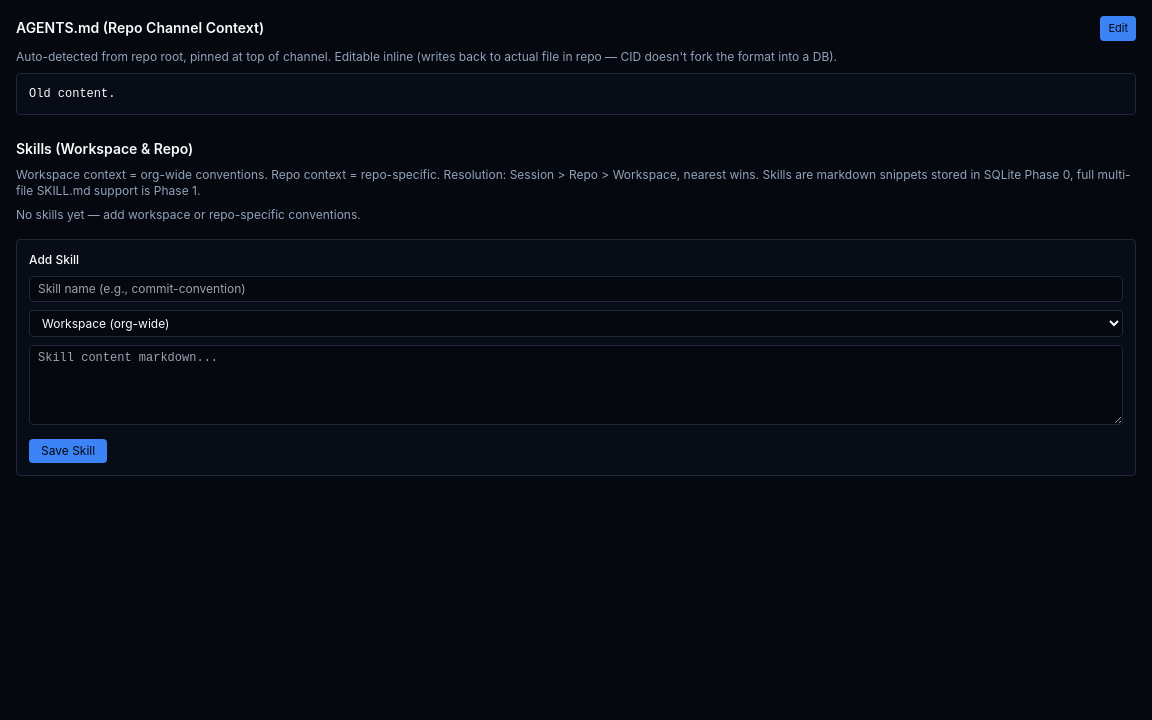
SkillsPanel › editing and saving AGENTS.md writes back to the real file
Step 1. Click the button "Edit" → (1118, 28), box [1100, 16, 1136, 40]
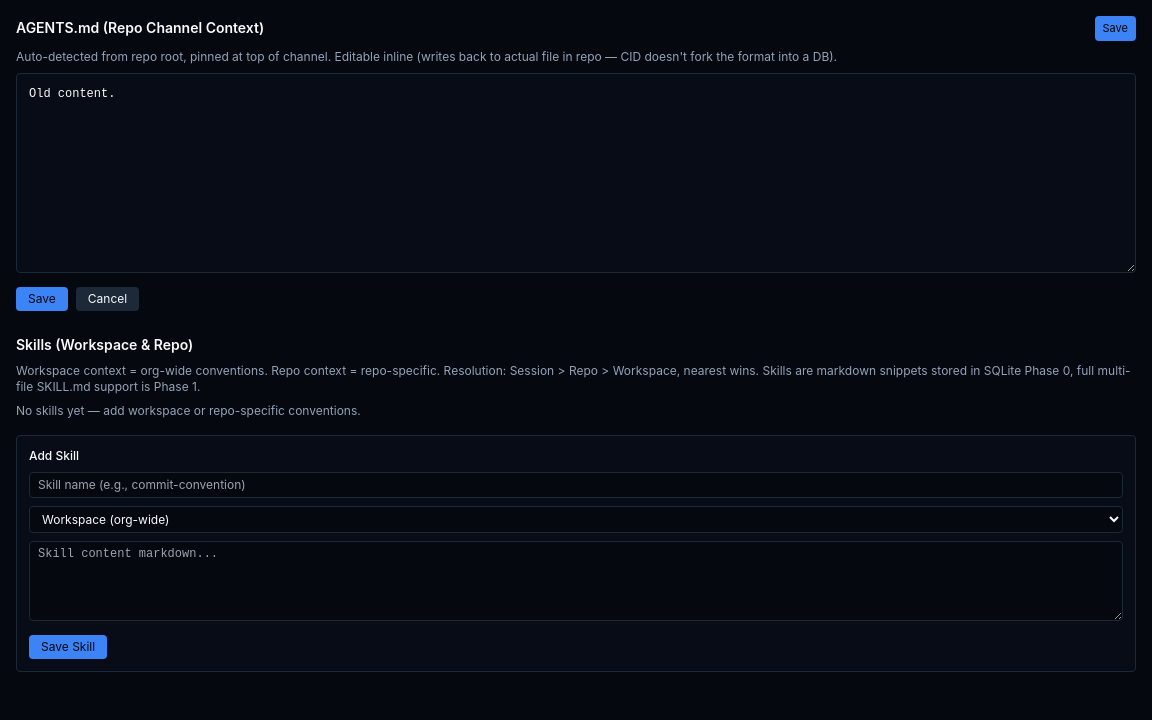
Step 2. Replace the text in the text box showing "Old content." with "New content." → (576, 172), box [16, 72, 1136, 272]
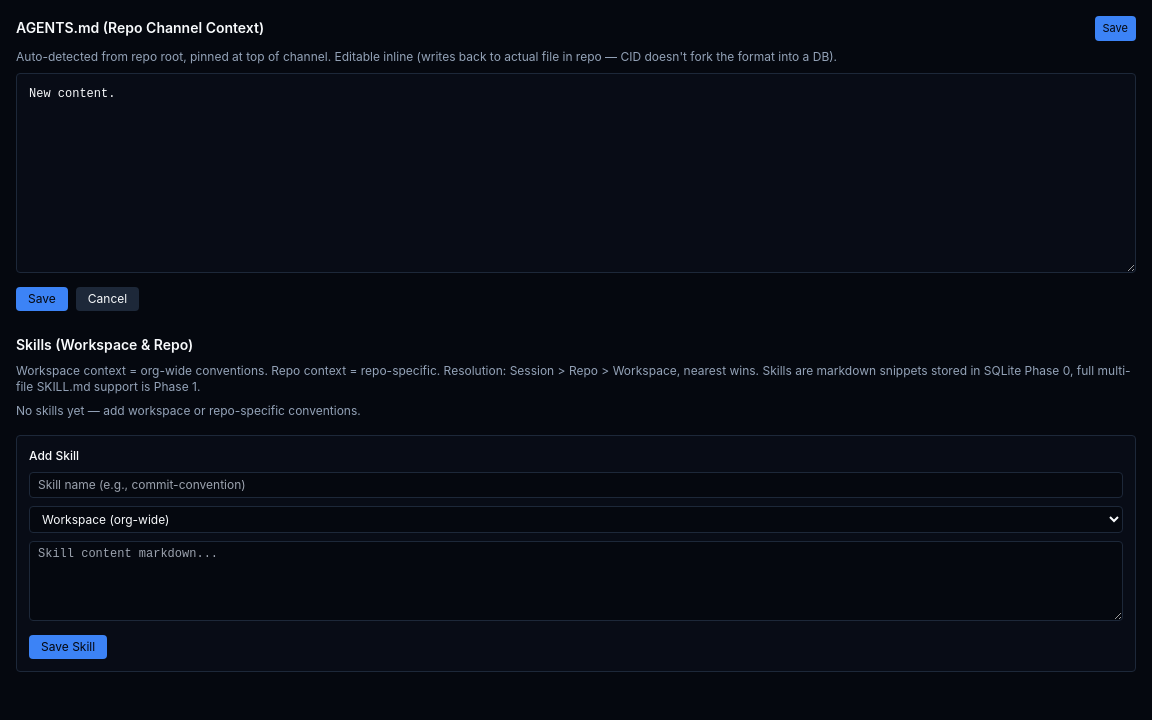
Step 3. Click the 2nd button "Save" → (42, 298), box [16, 286, 68, 310]
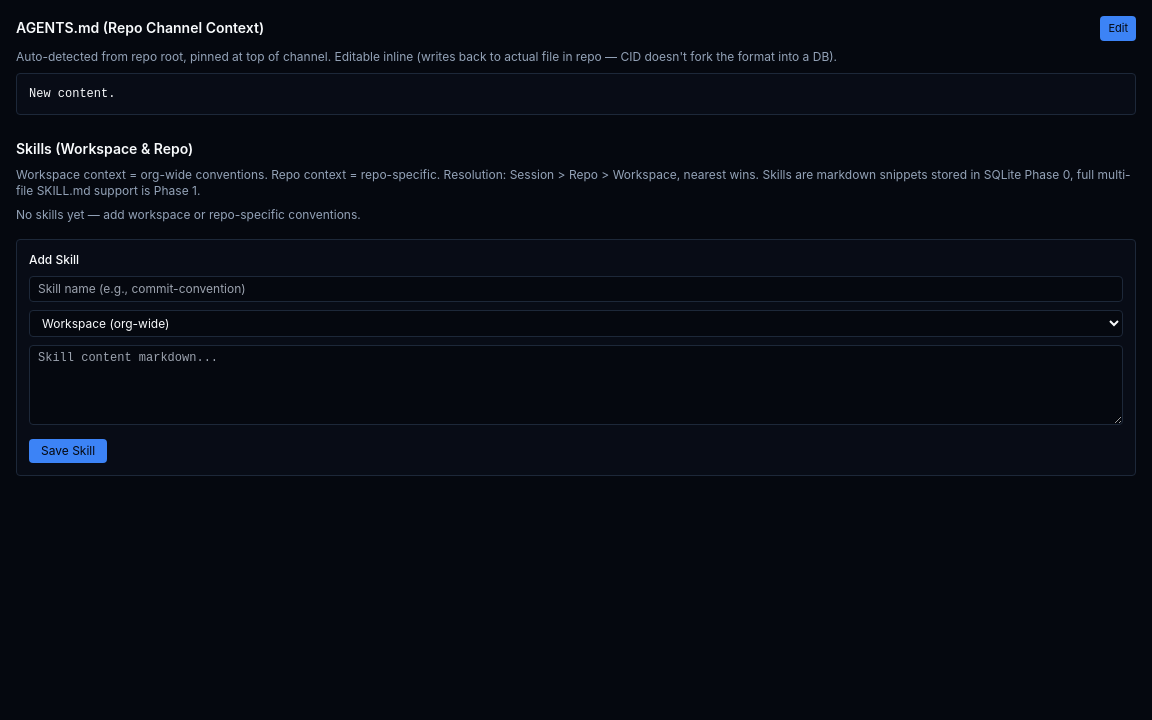
Check: the text "New content." is shown, box [16, 72, 1136, 114]
